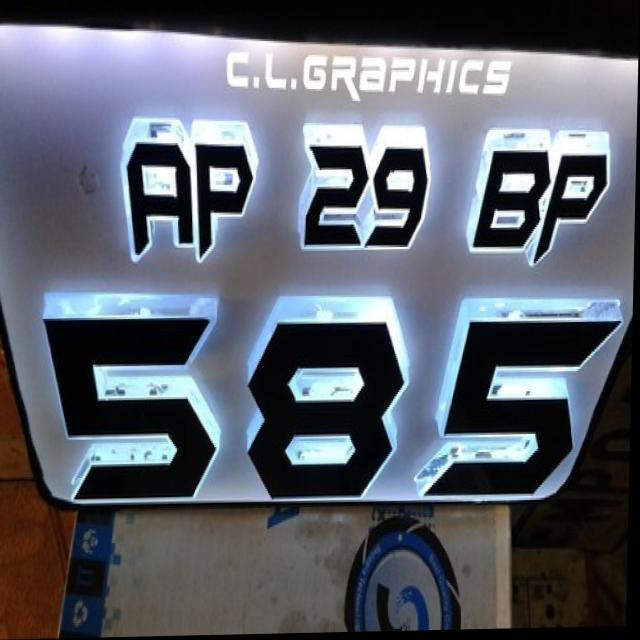licence: (0, 21, 629, 544)
